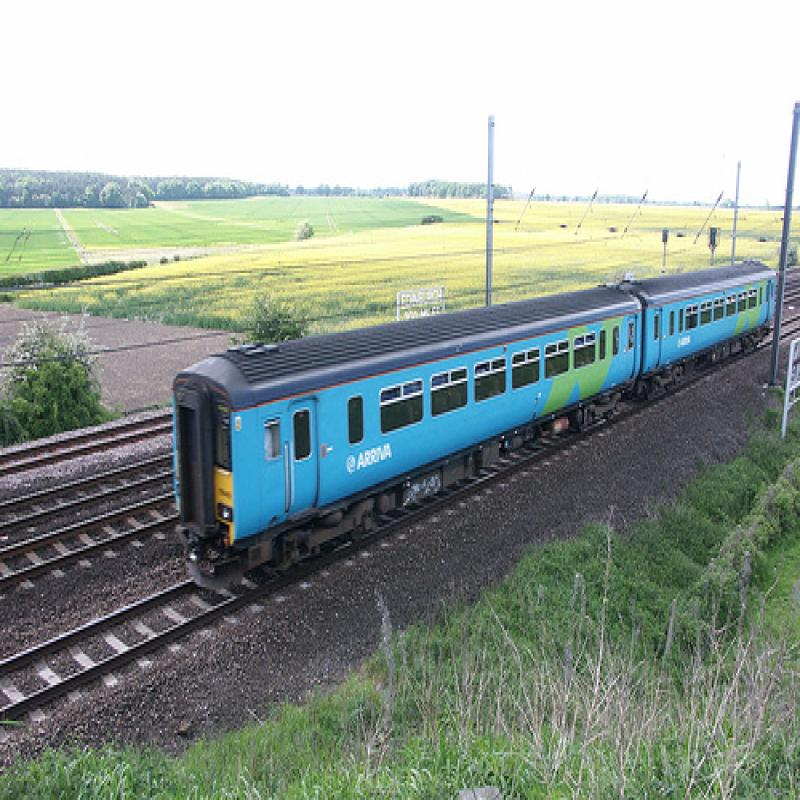train: (168, 255, 779, 583)
